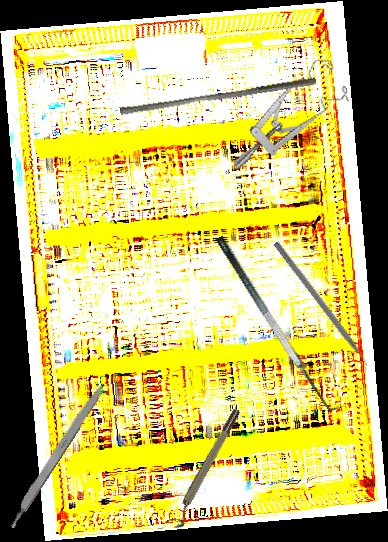Chopper: (266, 240, 374, 377)
Fixation Ring: (165, 406, 248, 532)
Pusher: (119, 69, 317, 123)
Scalpel Handle: (4, 380, 108, 530)
Spatula Surgical: (213, 226, 346, 420)
Speculum: (209, 53, 361, 171)
